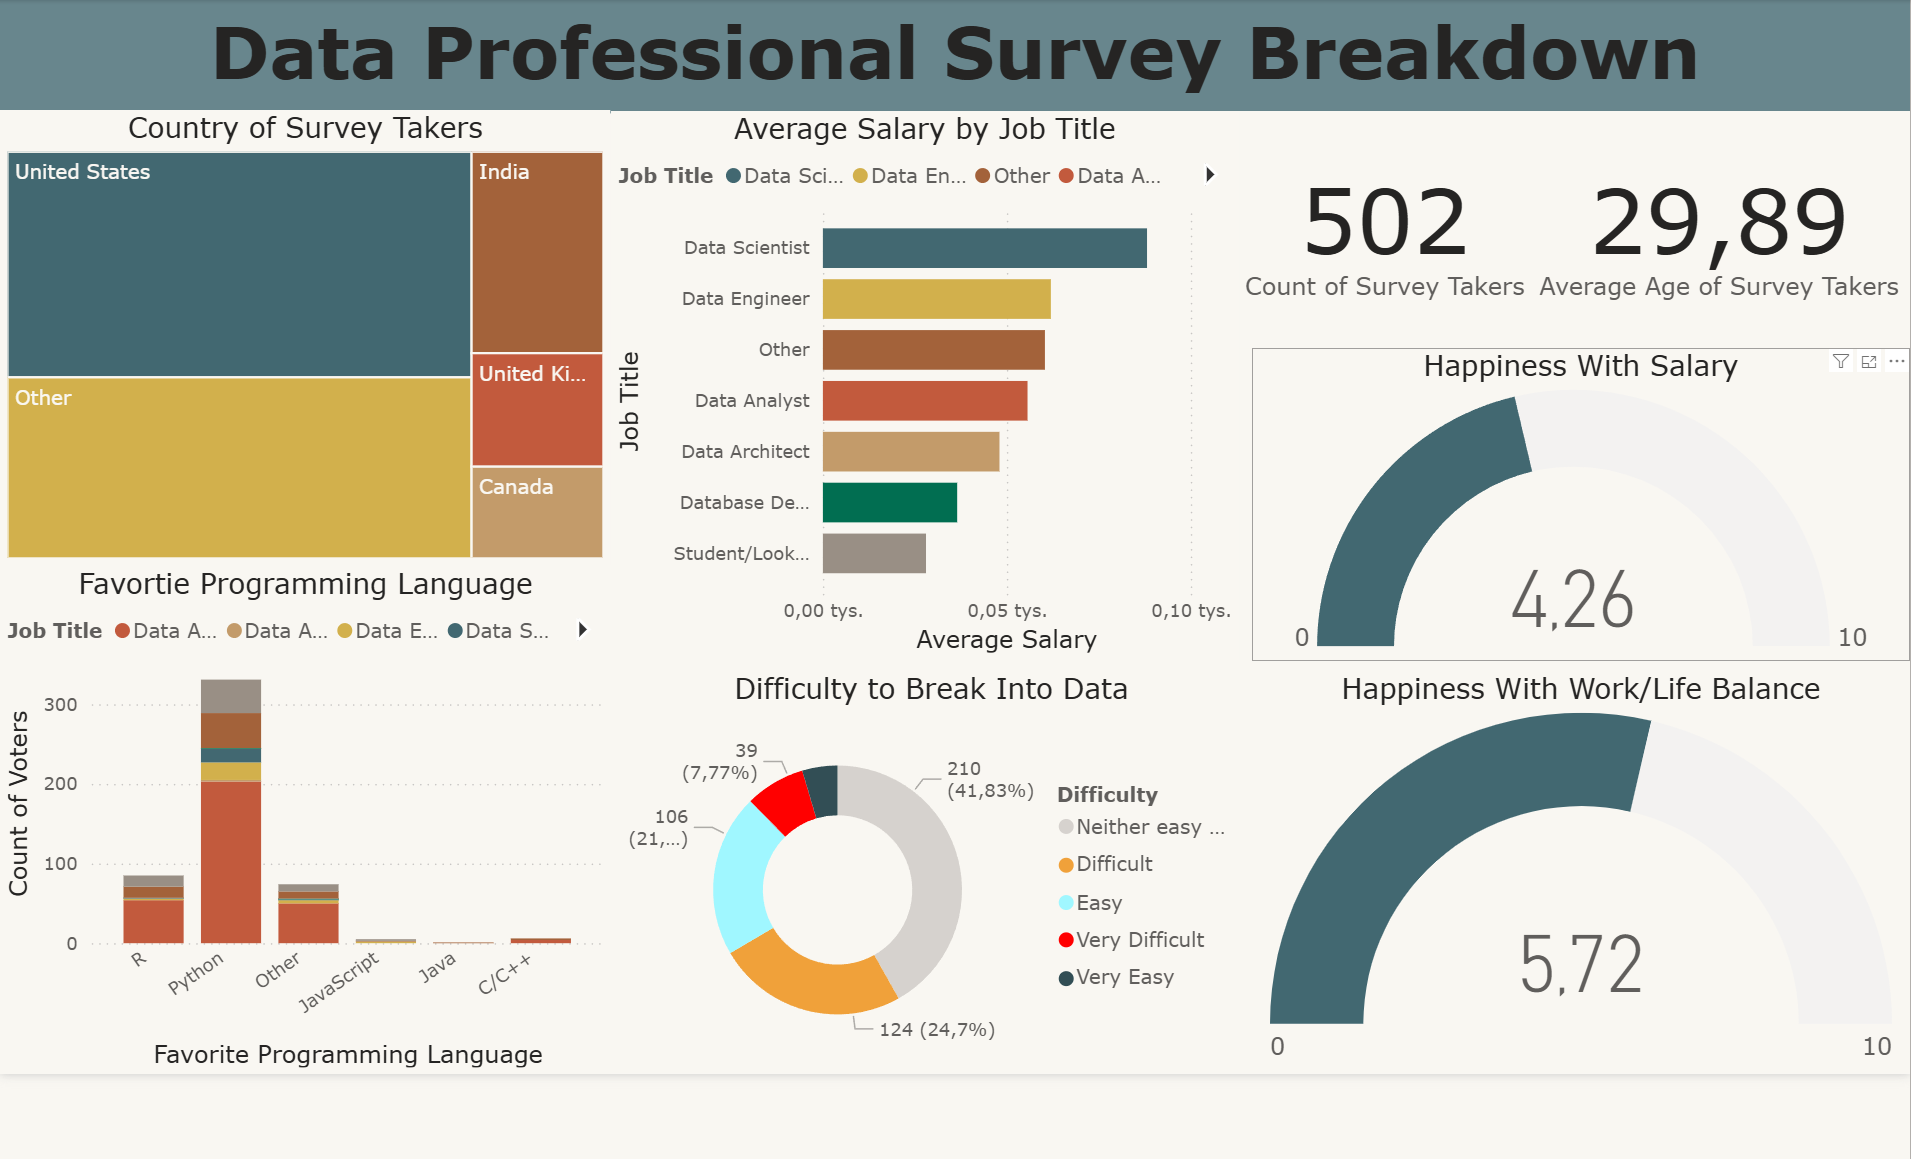

The dashboard page shown, as its layout file describes it:
{"tool":"powerbi","page":{"name":"Dashboard","canvas":[1280,720],"ordinal":0},"visuals":[{"type":"textbox","box":[0,0,1280,75.5],"z":0},{"type":"card","fields":{"Values":["Count(Data Professional Survey.Unique ID)"]},"box":[825,74.1,206.2,159.3],"z":1000},{"type":"card","fields":{"Values":["Avg(Data Professional Survey.Q10 - Current Age)"]},"box":[1023.9,74.1,256.1,159.3],"z":2000},{"type":"barChart","title":"Average Salary by Job Title","fields":{"Category":["Data Professional Survey.Q1 - Which Title Best Fits your Current Role?.1"],"Y":["Avg(Data Professional Survey.Average Salary)"],"Series":["Data Professional Survey.Q1 - Which Title Best Fits your Current Role?.1"]},"box":[409.5,74.1,420.6,368.4],"z":3000},{"type":"columnChart","title":" Favortie Programming Language","fields":{"Category":["Data Professional Survey.Q5 - Favorite Programming Language.1"],"Y":["CountNonNull(Data Professional Survey.Unique ID)"],"Series":["Data Professional Survey.Q1 - Which Title Best Fits your Current Role?.1"]},"box":[0,379,409.6,341.1],"z":4000},{"type":"treemap","title":"Country of Survey Takers","fields":{"Group":["Data Professional Survey.Q11 - Which Country do you live in?.1"],"Values":["CountNonNull(Data Professional Survey.Q11 - Which Country do you live in?.1)"]},"box":[0,73.9,409.3,305.4],"z":5000},{"type":"gauge","title":"Happiness With Salary","fields":{"Y":["Avg(Data Professional Survey.Q6 - How Happy are you in your Current Position with the following? (Salary))"],"MinValue":["Min(Data Professional Survey.Q6 - How Happy are you in your Current Position with the following? (Salary))1"],"MaxValue":["Max(Data Professional Survey.Q6 - How Happy are you in your Current Position with the following? (Salary))2"]},"box":[839,233.1,430.5,216.9],"z":6000},{"type":"gauge","title":"Happiness With Work/Life Balance","fields":{"Y":["Avg(Data Professional Survey.Q6 - How Happy are you in your Current Position with the following? (Work/Life Balance))"],"MinValue":["Min(Data Professional Survey.Q6 - How Happy are you in your Current Position with the following? (Work/Life Balance))1"],"MaxValue":["Max(Data Professional Survey.Q6 - How Happy are you in your Current Position with the following? (Work/Life Balance))2"]},"box":[839,449.9,441,270.5],"z":7000},{"type":"donutChart","title":"Difficulty to Break Into Data","fields":{"Category":["Data Professional Survey.Q7 - How difficult was it for you to break into Data?"],"Y":["CountNonNull(Data Professional Survey.Q7 - How difficult was it for you to break into Data?)"]},"box":[409.3,449.9,429.6,270.5],"z":8000}]}

Visuals, with their boxes on the page's 1280x720 design canvas (x1, y1, x2, y2). These are canvas units, not pixel positions in the 1911x1159 screenshot, which may show the page scaled, cropped or inside an application window:
textbox: bbox=[0, 0, 1280, 76]
card - Count(Data Professional Survey.Unique ID): bbox=[825, 74, 1031, 233]
card - Avg(Data Professional Survey.Q10 - Current Age): bbox=[1024, 74, 1280, 233]
"Average Salary by Job Title" barChart: bbox=[410, 74, 830, 442]
" Favortie Programming Language" columnChart: bbox=[0, 379, 410, 720]
"Country of Survey Takers" treemap: bbox=[0, 74, 409, 379]
"Happiness With Salary" gauge: bbox=[839, 233, 1270, 450]
"Happiness With Work/Life Balance" gauge: bbox=[839, 450, 1280, 720]
"Difficulty to Break Into Data" donutChart: bbox=[409, 450, 839, 720]
